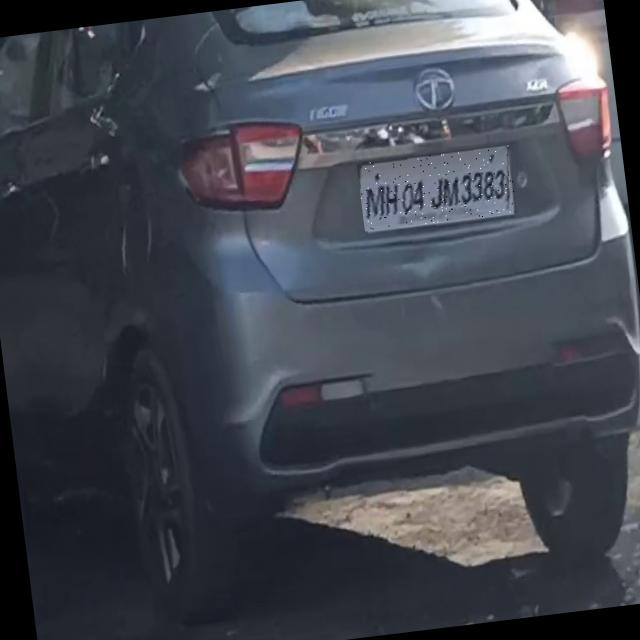Plate: (358, 146, 518, 232)
